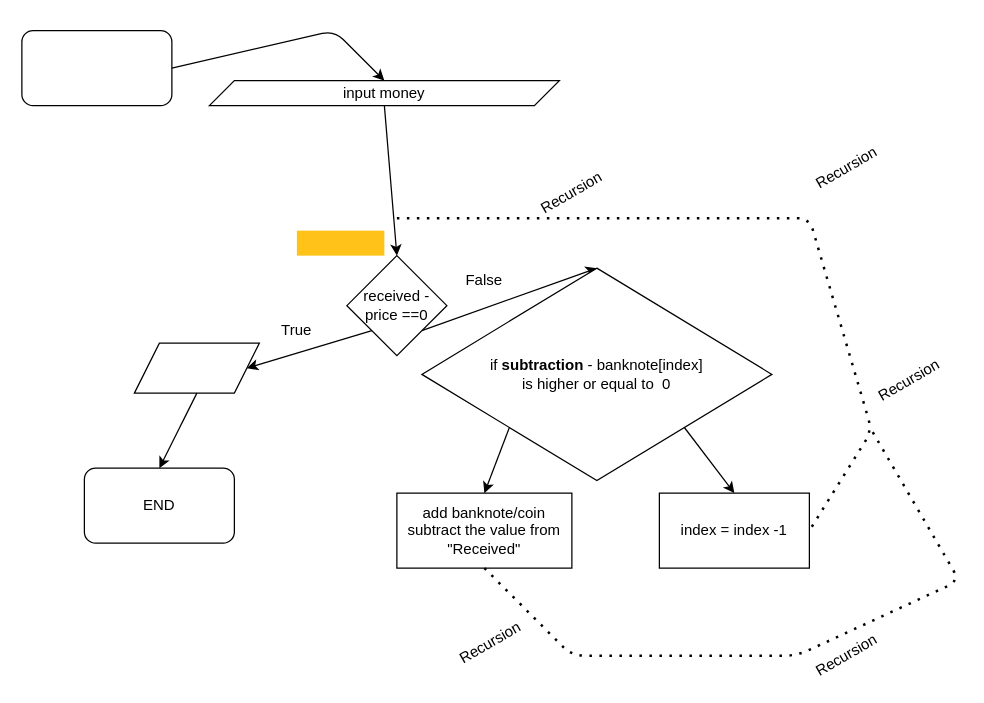
The diagram is 984 pixels wide and 703 high, and some of its shapes have lost their labels. Each missing label, with the centre of its shape:
"Start" goes at point 96,67.
"subtraction" goes at point 340,242.
"Write Result" goes at point 196,367.
